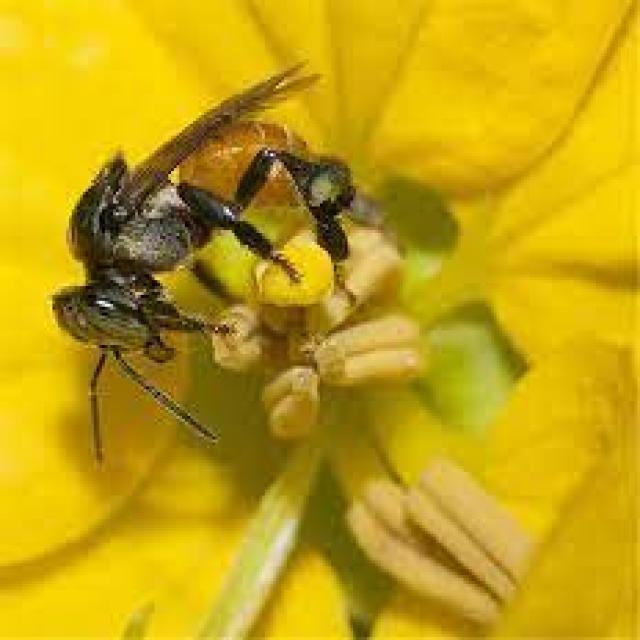Meliponula: (42, 70, 370, 447)
